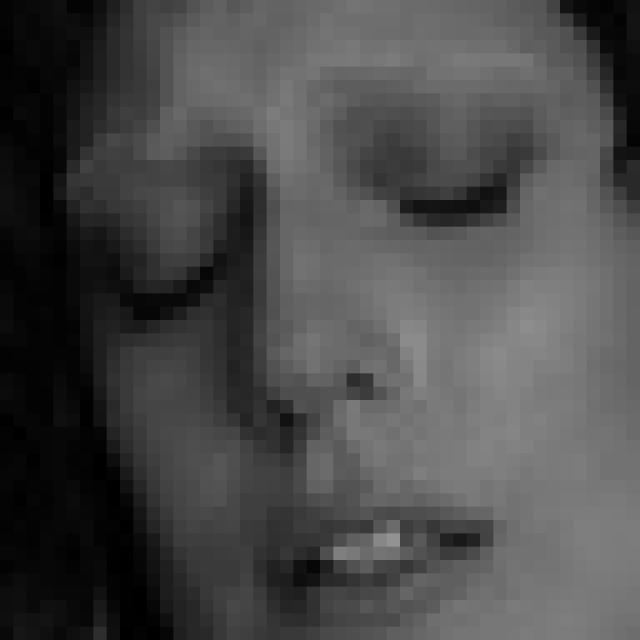sad: (97, 91, 542, 640)
